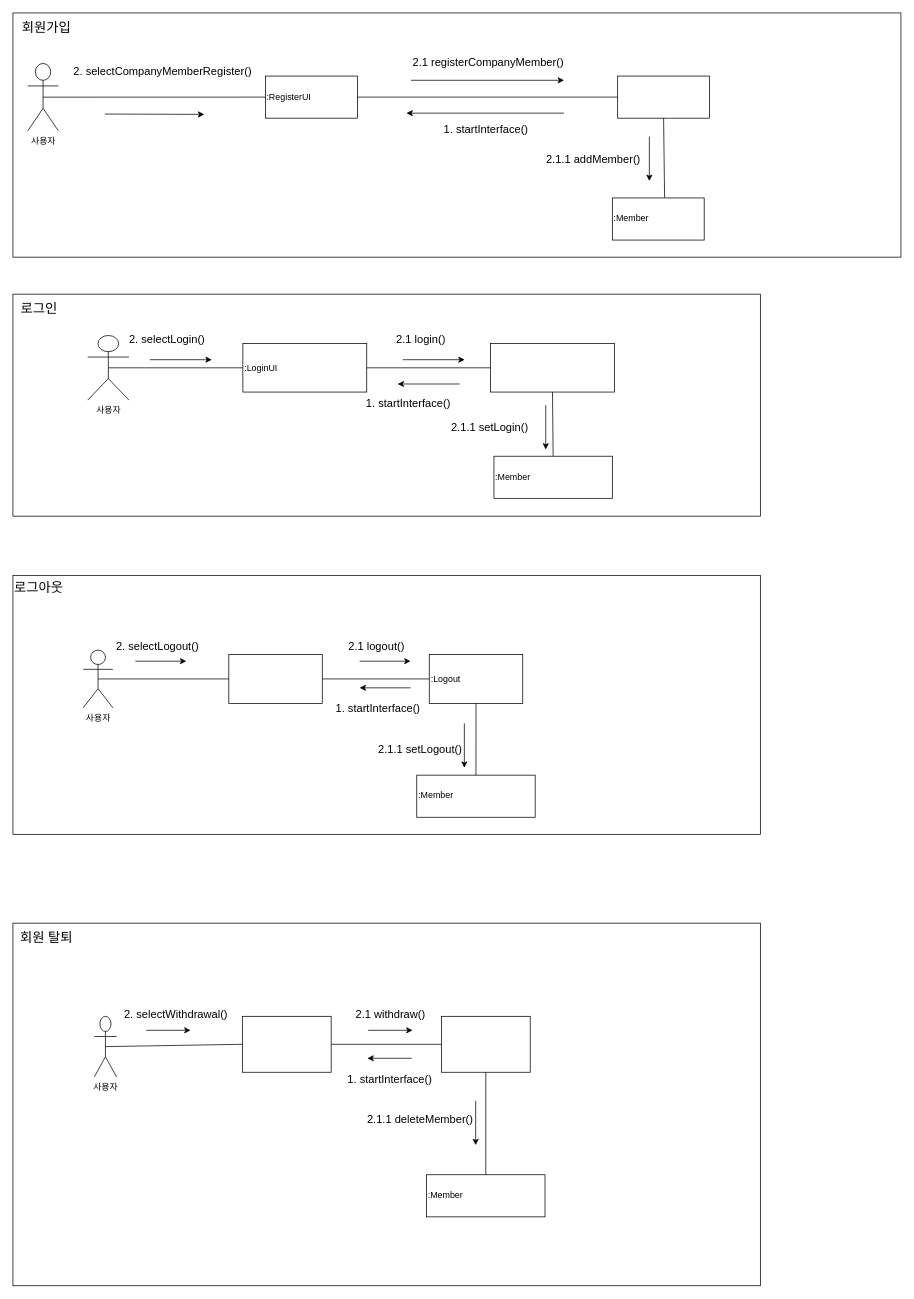
Some shapes in this 914 by 1299 pixel diagram are drawn without their labels. The shapes that lost their labels are listed below. From the top down, each one's centre as x and y in pixels, then its label:
At point 663,96: ":Register".
At point 552,367: ":Login".
At point 275,678: ":LogoutUI".
At point 286,1044: ": WithdrawalUI".
At point 485,1044: ": Withdraw".
